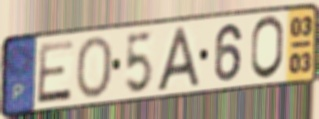5: (123, 29, 156, 95)
6: (213, 21, 244, 84)
A: (154, 24, 203, 94)
E: (35, 37, 76, 106)
O: (74, 34, 115, 101), (248, 14, 286, 82)
